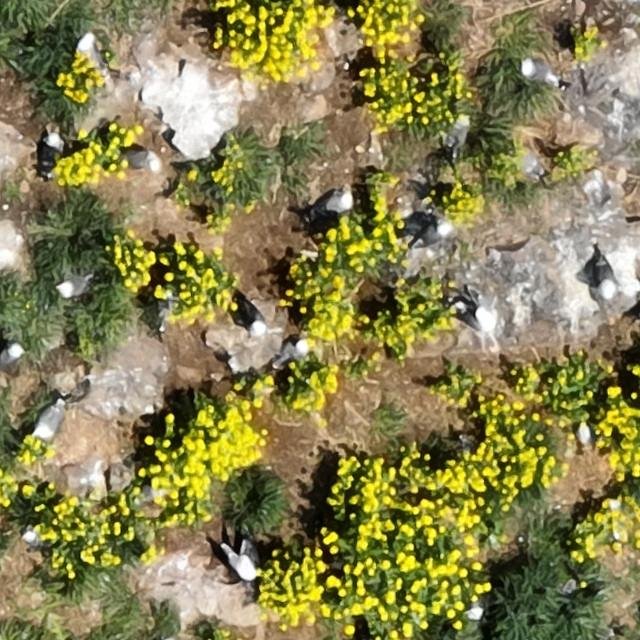umineko: (120, 145, 169, 179), (454, 303, 496, 337), (230, 544, 256, 580), (36, 404, 64, 437), (312, 192, 352, 214), (522, 59, 558, 82), (276, 338, 309, 362), (56, 274, 88, 296), (417, 223, 449, 245), (77, 35, 99, 66), (246, 302, 267, 332), (42, 130, 63, 160), (596, 260, 612, 295), (1, 342, 22, 368), (451, 118, 468, 148)
